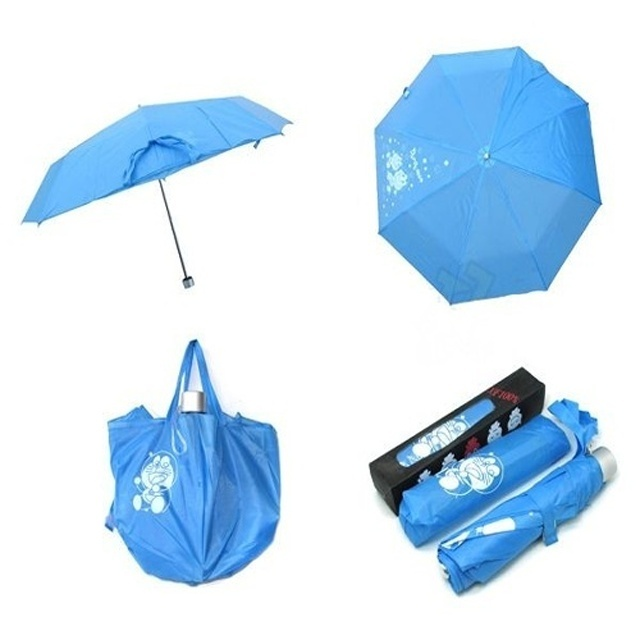umbrella: (371, 45, 607, 308), (17, 92, 293, 291), (432, 442, 623, 598)
